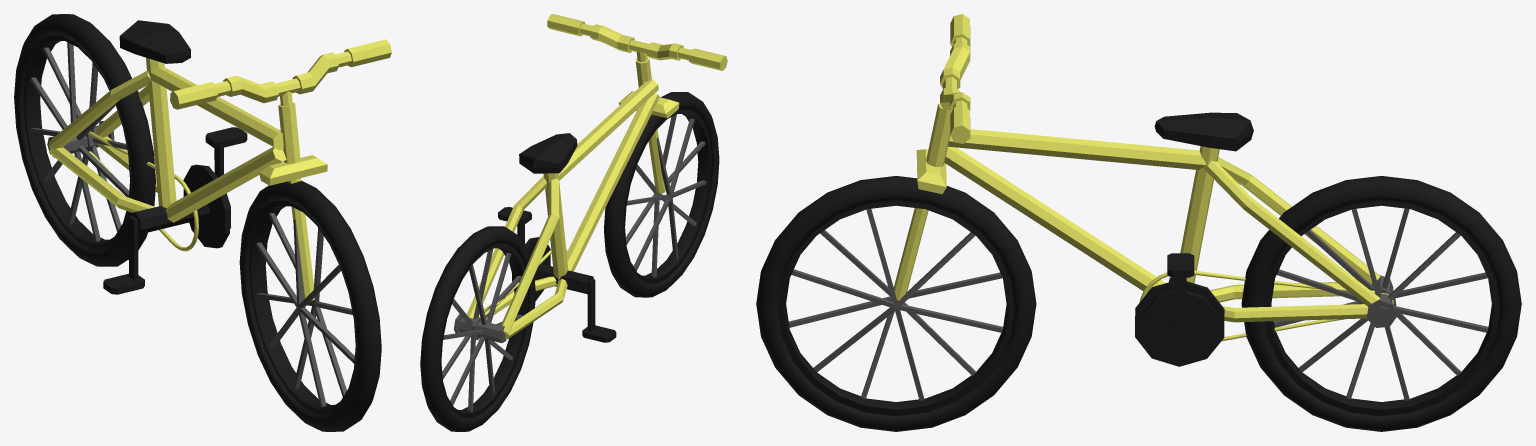
File: yellow_bicycle.fbx
3 renders of one model, left to right at view 1: azimuth 30°, elevation 25°; view 2: azimuth 150°, elevation 25°; view 3: azimuth 270°, elevation 25°, orthographic. The views are drawn at different scales.
Visible parts, largest first — view 1: bicycle; view 2: bicycle; view 3: bicycle.
Part boxes in pixels (left/top/right/bottom): bicycle: left=14, top=14, right=391, bottom=431; bicycle: left=420, top=14, right=727, bottom=431; bicycle: left=756, top=14, right=1521, bottom=431.
Size of the model in its own units: 57.62 by 87.06 by 167.
